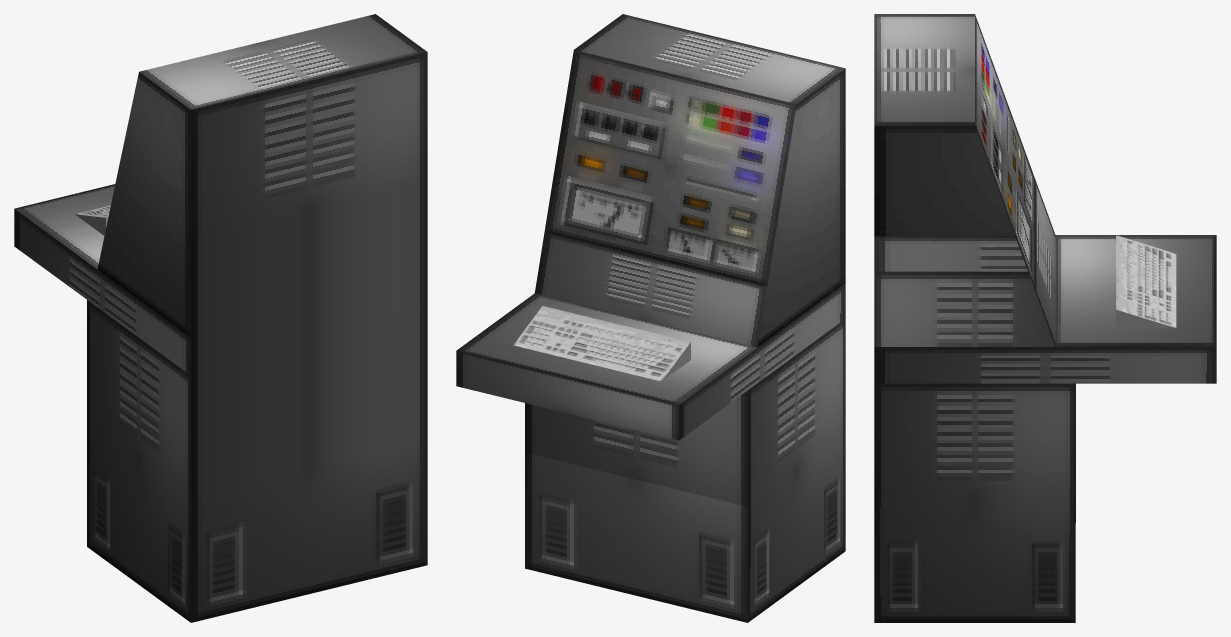
File: primary_070.glb
3 renders of one model, left to right at view 1: azimuth 30°, elevation 25°; view 2: azimuth 150°, elevation 25°; view 3: azimuth 270°, elevation 25°, orthographic. The views are drawn at different scales.
Parts seen in each view (by area): view 1: Object; view 2: Object; view 3: Object.
Part boxes in pixels (x1=…): Object: x1=14, y1=14, x2=427, y2=622; Object: x1=456, y1=14, x2=845, y2=622; Object: x1=874, y1=14, x2=1216, y2=622.
Bounding box in the file's own units: 0.8592 × 1.78 × 1.11.
Materials: 21 (21 with a texture image).
